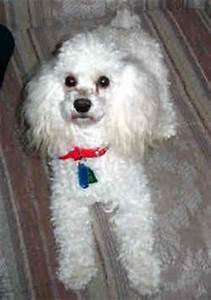dog: (16, 10, 210, 299)
